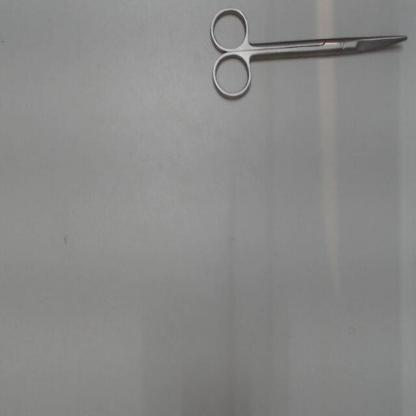Curved Mayo Scissors: (204, 3, 411, 108)
